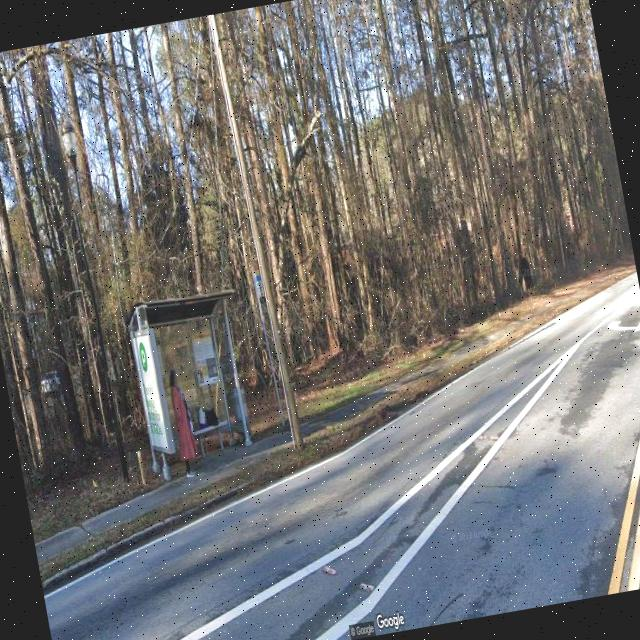seating: (190, 417, 233, 457)
shelter: (123, 284, 266, 483)
trash_can: (230, 384, 252, 434)
